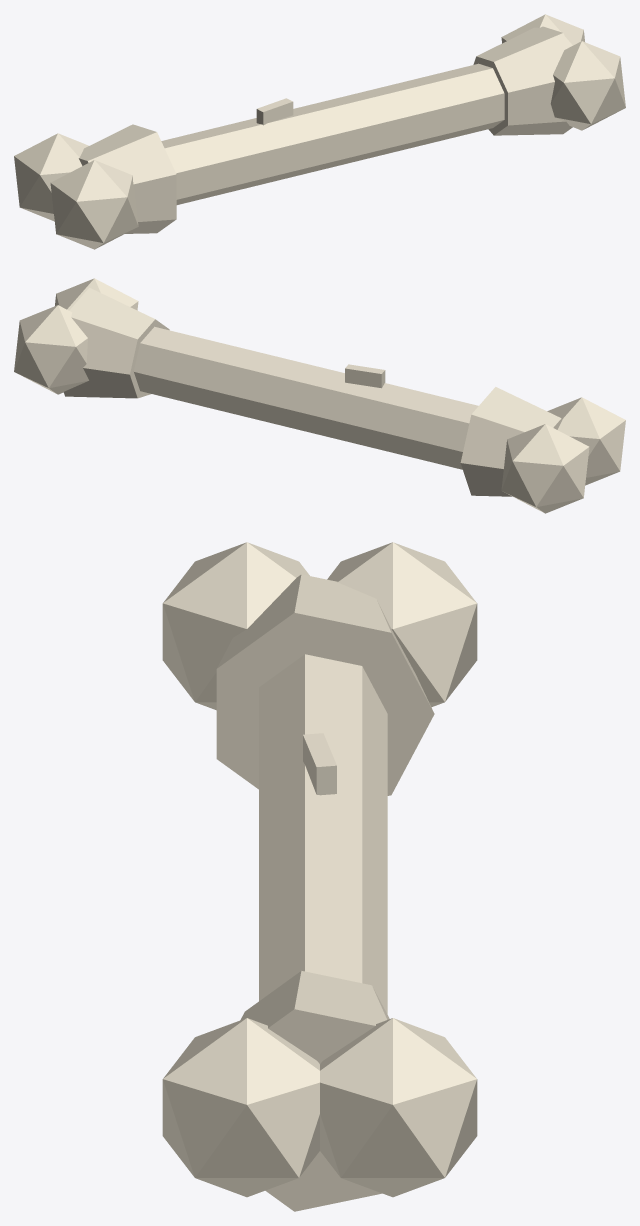
Rendered from osso.glb.
The picture shows the model from 3 angles, top to bottom: view 1: azimuth 30°, elevation 25°; view 2: azimuth 150°, elevation 25°; view 3: azimuth 270°, elevation 25°; orthographic projection. The views are drawn at different scales.
Visible parts, largest first — view 1: osso; view 2: osso; view 3: osso.
Boxes of the visible parts, x1,y1,x2,y2 form: osso: (14, 14, 625, 249); osso: (14, 278, 625, 513); osso: (162, 542, 477, 1211).
Size of the model in its own units: 0.25 by 0.0429 by 0.0603.
